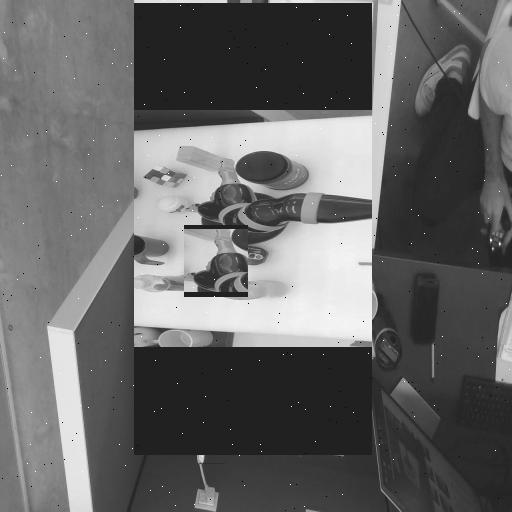bowl: (217, 210, 268, 262)
cleanser: (300, 271, 316, 351)
coffee_can: (176, 174, 214, 245)
jaco: (184, 229, 248, 293)
meat_can: (268, 214, 289, 267)
mug: (259, 313, 289, 369)
mustard_bottle: (305, 195, 324, 263)
rubik: (190, 295, 212, 338)
soup_can: (290, 397, 308, 415)
tennis_ball: (221, 300, 238, 317)
windex: (198, 345, 225, 463)
wooden_block: (170, 268, 195, 293)
workspace: (134, 116, 372, 343)
